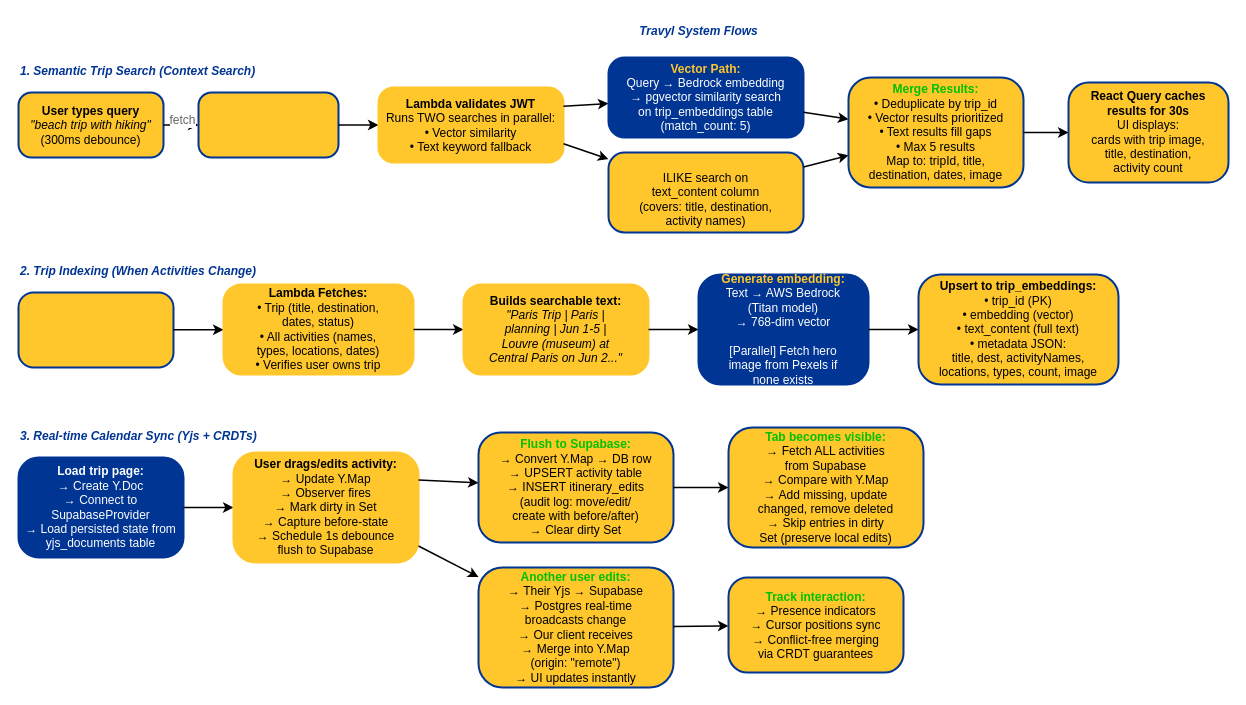
Image size: 1246x705. Some labels were removed from this diagram. The shapes that lost their labels are listed below. From the top down, each one's centre as x and y in pixels, then its label:
point (268, 124): Next.js API route forwards request with auth token
point (95, 329): User adds/removes an activity → 5s debounce timer started per trip
